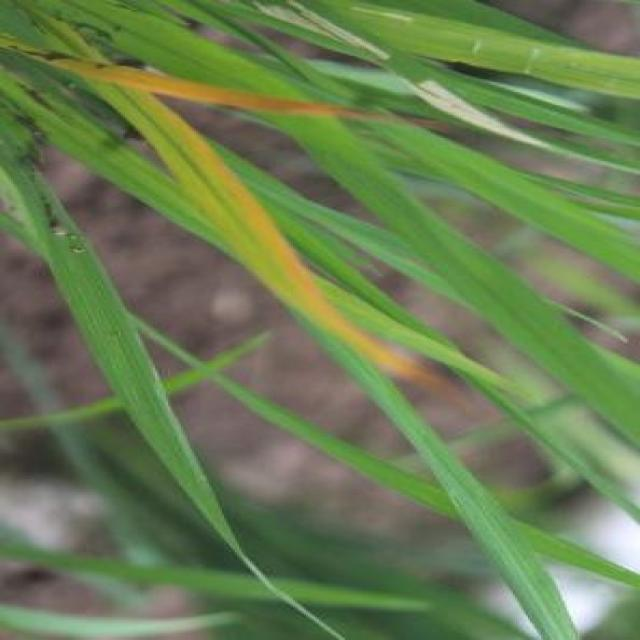Rice Tungro: (259, 221, 385, 358), (127, 68, 357, 123)
